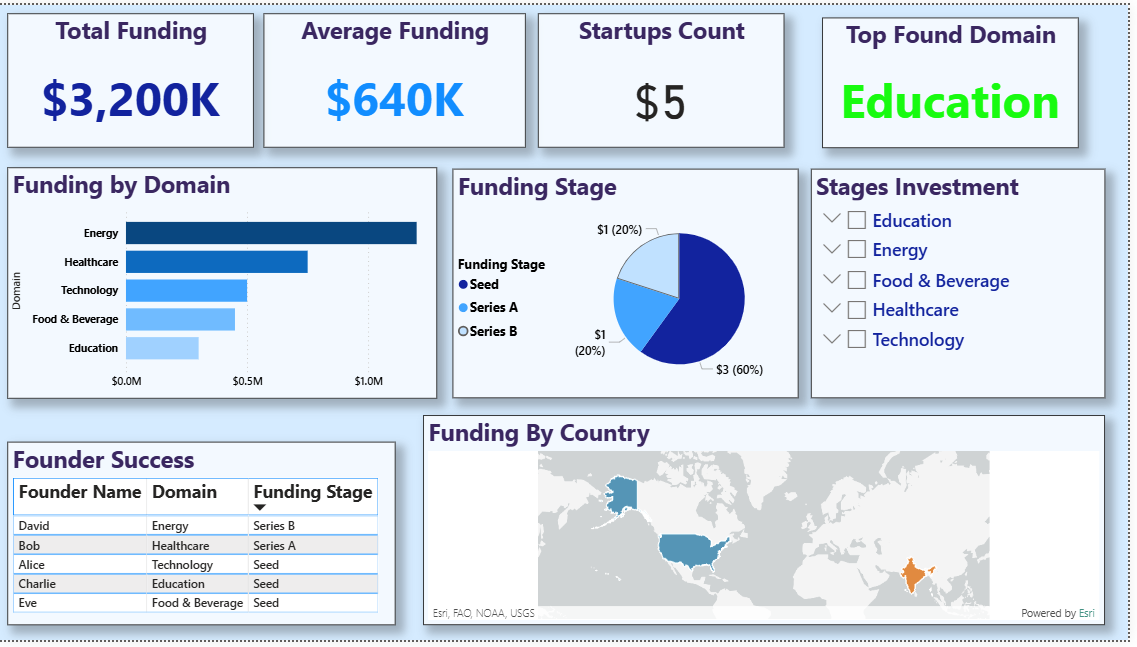

The dashboard page shown, as its layout file describes it:
{"tool":"powerbi","page":{"name":"Page 1","canvas":[1280,720],"ordinal":0},"visuals":[{"type":"card","title":"Total Funding","fields":{"Values":["StartupInvestmentData.Total Funding"]},"box":[9.5,9.5,279.4,152.4],"z":0},{"type":"card","title":"Average Funding ","fields":{"Values":["StartupInvestmentData.Average Funding"]},"box":[300,9.5,296.8,152.4],"z":1000},{"type":"pieChart","title":" Funding Stage","fields":{"Category":["StartupInvestmentData.Funding Stage"],"Y":["StartupInvestmentData.Startups Count"]},"box":[514.3,185.7,392.1,260.3],"z":2000},{"type":"clusteredBarChart","title":"Funding by Domain","fields":{"Y":["StartupInvestmentData.Total Funding"],"Category":["StartupInvestmentData.Domain"]},"box":[9.5,184.1,487.3,261.9],"z":3000},{"type":"tableEx","title":"Founder Success ","fields":{"Values":["StartupInvestmentData.Founder Name","StartupInvestmentData.Domain","StartupInvestmentData.Funding Stage"]},"box":[9.5,495.2,439.7,207.9],"z":4000},{"type":"slicer","title":"Stages  Investment ","fields":{"Values":["StartupInvestmentData.Domain","StartupInvestmentData.Funding Stage","StartupInvestmentData.Country"]},"box":[920.6,185.7,333.3,260.3],"z":5000},{"type":"card","title":"Top Found Domain","fields":{"Values":["StartupInvestmentData.Domain"]},"box":[933.3,14.3,290.5,147.6],"z":7000},{"type":"card","title":"Startups Count","fields":{"Values":["StartupInvestmentData.Startups Count"]},"box":[611.1,9.5,279.4,152.4],"z":7001},{"type":"esriVisual","title":"Funding By Country ","fields":{"Location":["StartupInvestmentData.Country"],"Color":["StartupInvestmentData.Domain"]},"box":[481,465.1,773,238.1],"z":7002}]}

Visuals, with their boxes in screenshot pixels (x1, y1, x2, y2), scaled from the page's 1280x720 canvas onto the 1137x647 screenshot:
"Total Funding" card: region(8, 9, 257, 145)
"Average Funding " card: region(266, 9, 530, 145)
" Funding Stage" pieChart: region(457, 167, 805, 401)
"Funding by Domain" clusteredBarChart: region(8, 165, 441, 401)
"Founder Success " tableEx: region(8, 445, 399, 632)
"Stages  Investment " slicer: region(818, 167, 1114, 401)
"Top Found Domain" card: region(829, 13, 1087, 145)
"Startups Count" card: region(543, 9, 791, 145)
"Funding By Country " esriVisual: region(427, 418, 1114, 632)
